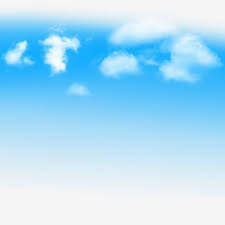sky: (1, 5, 224, 225)
